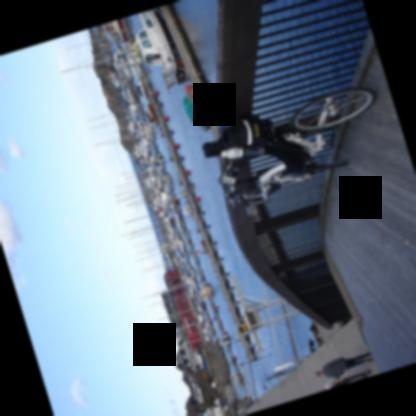backpack: (220, 116, 273, 148), (323, 380, 343, 389)
